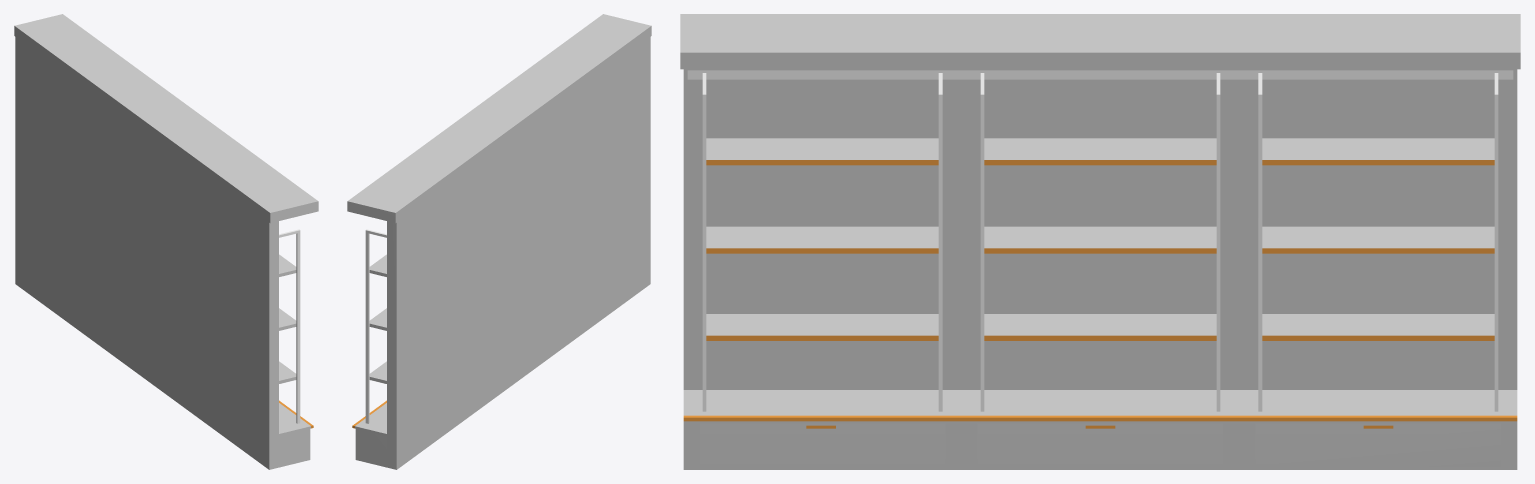
The model's file is SM_H_Residential_Bedroom_Shelf_01_ATLAS.fbx.
The picture shows the model from 3 angles, left to right: view 1: azimuth 30°, elevation 25°; view 2: azimuth 150°, elevation 25°; view 3: azimuth 270°, elevation 25°; orthographic projection. The views are drawn at different scales.
Visible parts, largest first — view 1: SM_H_Residential_Bedroom_Shelf_01_ATLAS; view 2: SM_H_Residential_Bedroom_Shelf_01_ATLAS; view 3: SM_H_Residential_Bedroom_Shelf_01_ATLAS.
Part boxes in pixels (x1,y1,x2,y2): SM_H_Residential_Bedroom_Shelf_01_ATLAS: [14, 14, 318, 469]; SM_H_Residential_Bedroom_Shelf_01_ATLAS: [347, 14, 651, 469]; SM_H_Residential_Bedroom_Shelf_01_ATLAS: [680, 14, 1520, 469].
Size of the model in its own units: 76.49 by 702 by 390.
